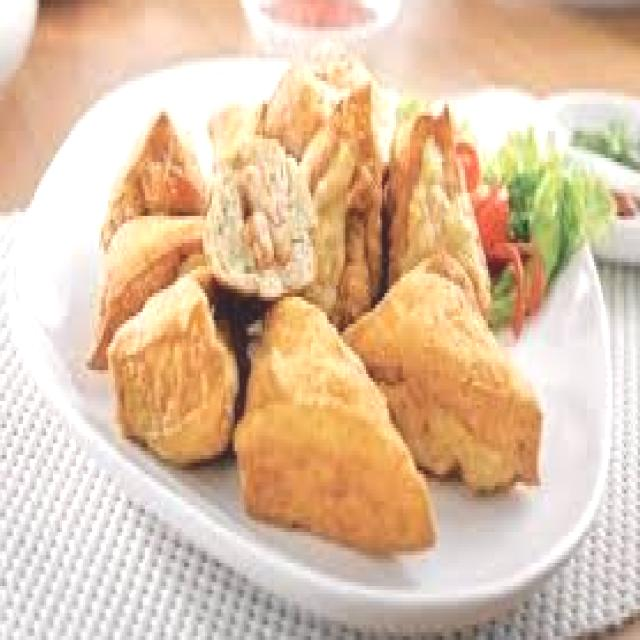tahu: (87, 67, 545, 510), (343, 246, 534, 489), (230, 294, 384, 522), (118, 250, 244, 451)
